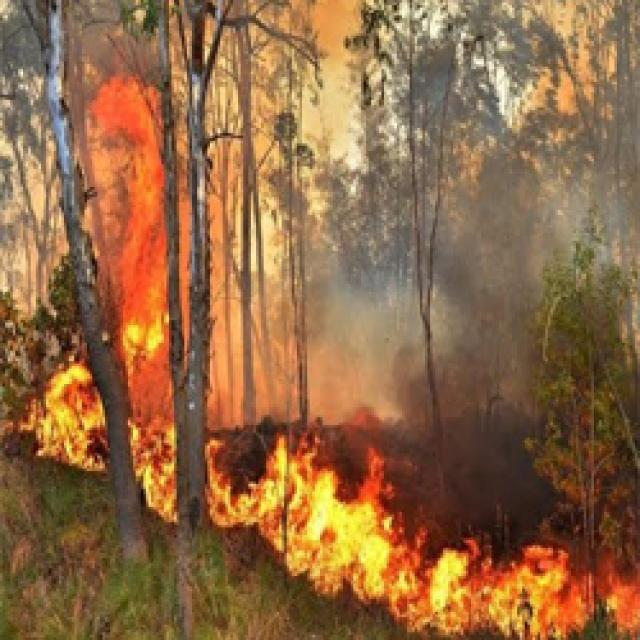Fire: (210, 404, 640, 640), (82, 53, 228, 542), (0, 303, 231, 503)
Smoke: (186, 0, 640, 433), (0, 0, 85, 297)
